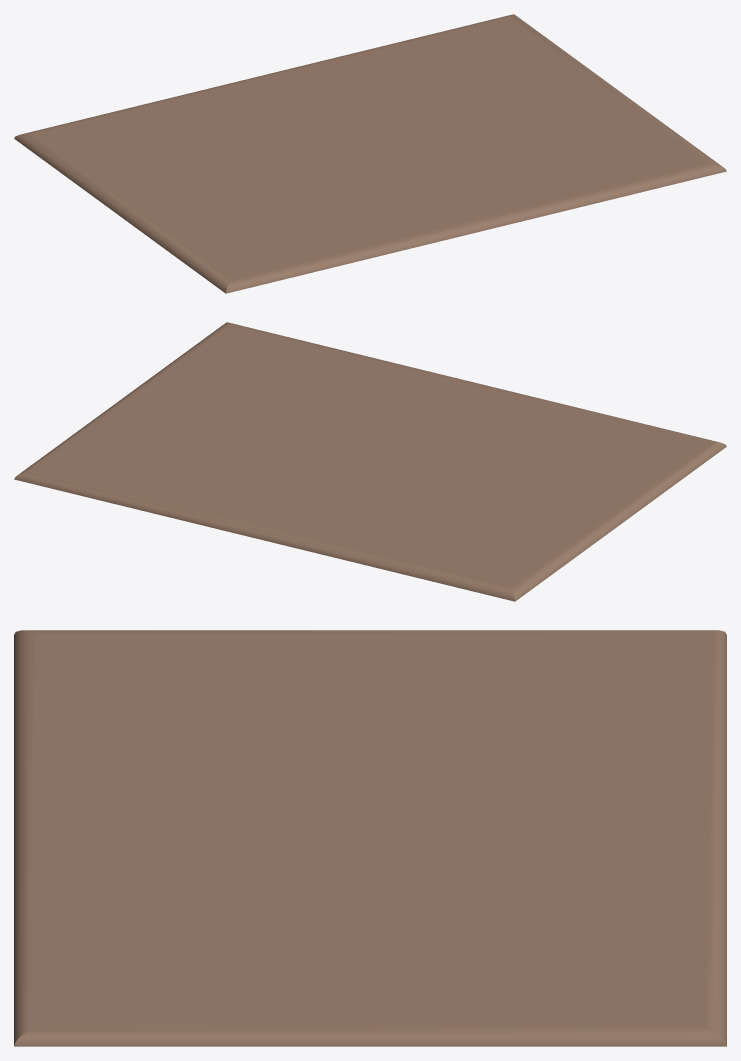
File: Rug.fbx
3 views of the same model, one above another, from view 1: azimuth 30°, elevation 25°; view 2: azimuth 150°, elevation 25°; view 3: azimuth 270°, elevation 25° (orthographic). The views are drawn at different scales.
Visible parts, largest first — view 1: pCube8; view 2: pCube8; view 3: pCube8.
Boxes of the visible parts, x1,y1,x2,y2 form: pCube8: (14, 14, 726, 293); pCube8: (14, 322, 726, 601); pCube8: (14, 630, 726, 1046).
Size of the model in its own units: 410 by 4.92 by 300.
